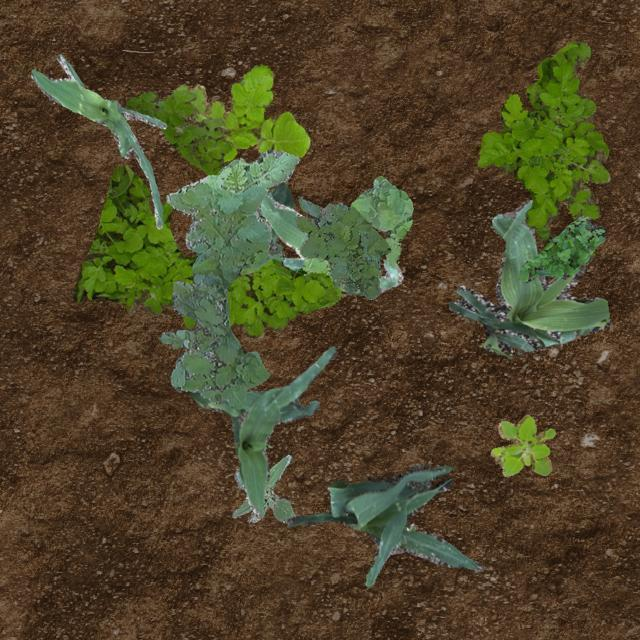crop: (188, 346, 336, 518), (448, 198, 608, 354), (286, 462, 482, 586), (30, 52, 166, 228), (258, 192, 402, 294), (258, 180, 294, 250)
weed: (73, 165, 340, 338), (158, 148, 298, 408), (476, 41, 610, 268), (125, 90, 273, 192), (174, 64, 308, 160), (299, 175, 412, 282), (294, 195, 389, 298), (518, 216, 604, 282), (232, 454, 294, 522), (490, 414, 554, 476), (404, 522, 414, 530)
